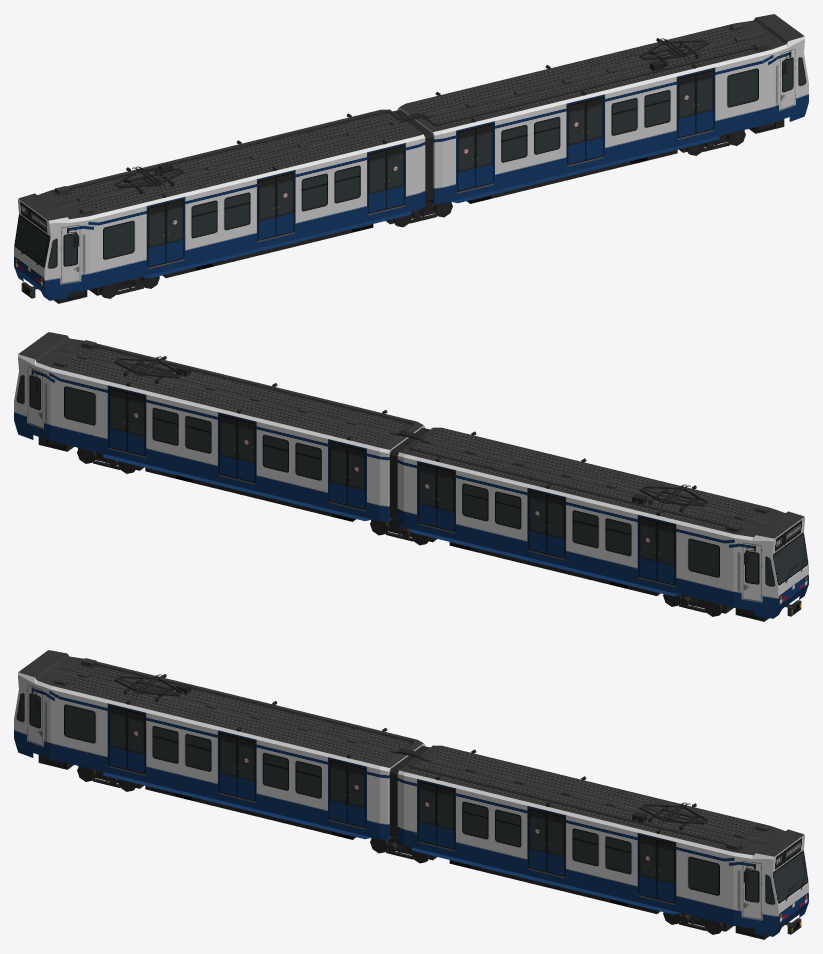
3 views of the same model, one above another, from view 1: azimuth 30°, elevation 25°; view 2: azimuth 150°, elevation 25°; view 3: azimuth 330°, elevation 25° (orthographic).
Parts seen in each view (by area): view 1: Sneltram.Bak.Metro.001, Sneltram.Bak.Metro, Sneltram.Draaistel.001; view 2: Sneltram.Bak.Metro.001, Sneltram.Bak.Metro, Sneltram.Draaistel.001; view 3: Sneltram.Bak.Metro, Sneltram.Bak.Metro.001, Sneltram.Draaistel.001.
Part boxes in pixels (bbox=[...]): Sneltram.Bak.Metro.001: bbox=[14, 109, 425, 303]; Sneltram.Bak.Metro: bbox=[397, 14, 808, 204]; Sneltram.Draaistel.001: bbox=[386, 109, 452, 227]; Sneltram.Bak.Metro.001: bbox=[397, 427, 808, 621]; Sneltram.Bak.Metro: bbox=[14, 332, 425, 522]; Sneltram.Draaistel.001: bbox=[370, 427, 436, 545]; Sneltram.Bak.Metro: bbox=[397, 745, 808, 939]; Sneltram.Bak.Metro.001: bbox=[14, 650, 425, 840]; Sneltram.Draaistel.001: bbox=[370, 745, 436, 863].
Bounding box in the file's own units: 6.04 × 0.7648 × 0.6261.
Materials: 2 (2 with a texture image).
